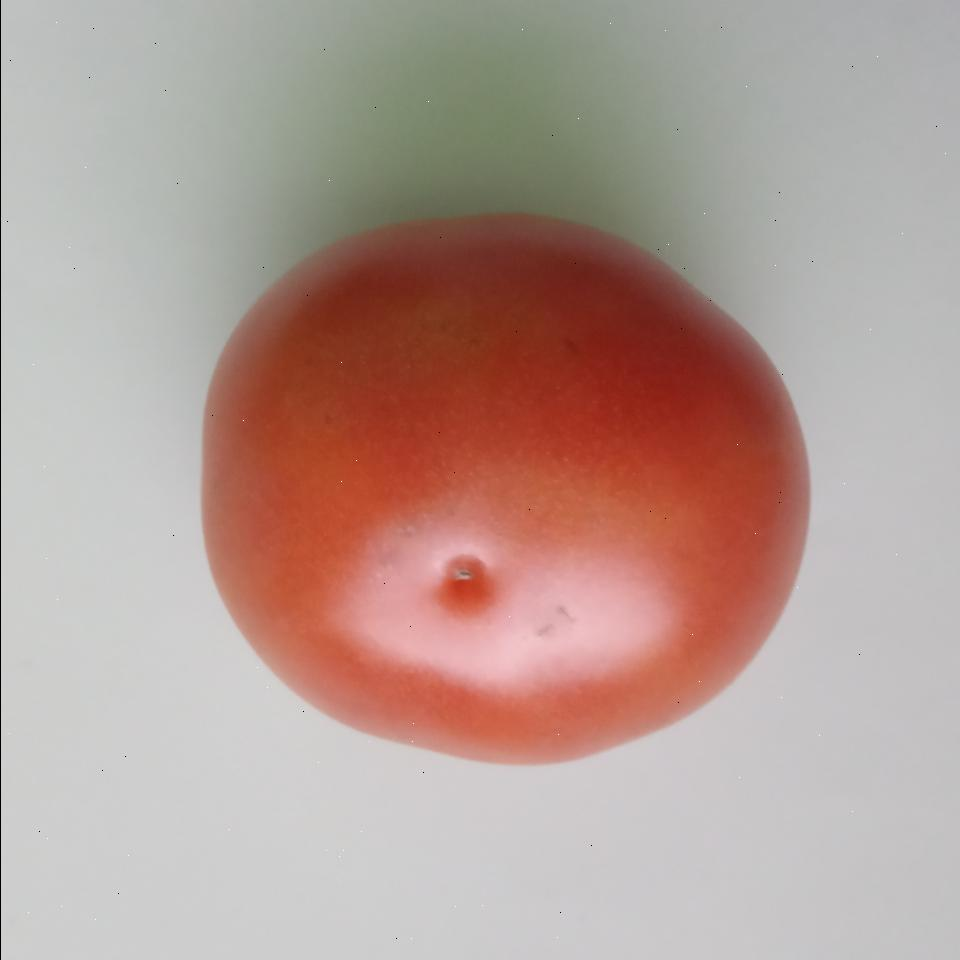Healthy: (193, 211, 817, 769)
